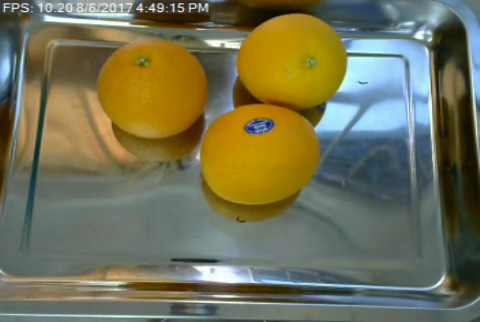Orange: (201, 104, 318, 205), (95, 38, 209, 138), (236, 14, 347, 109)
